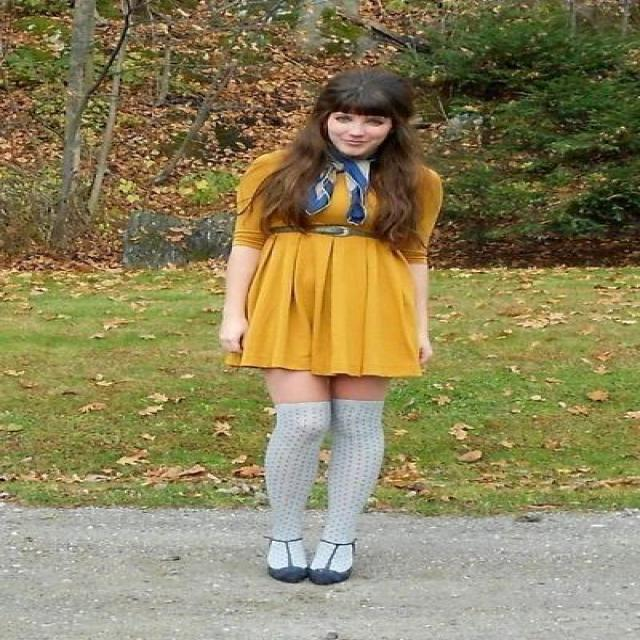dress: (214, 160, 453, 379)
shoe: (267, 542, 352, 584)
